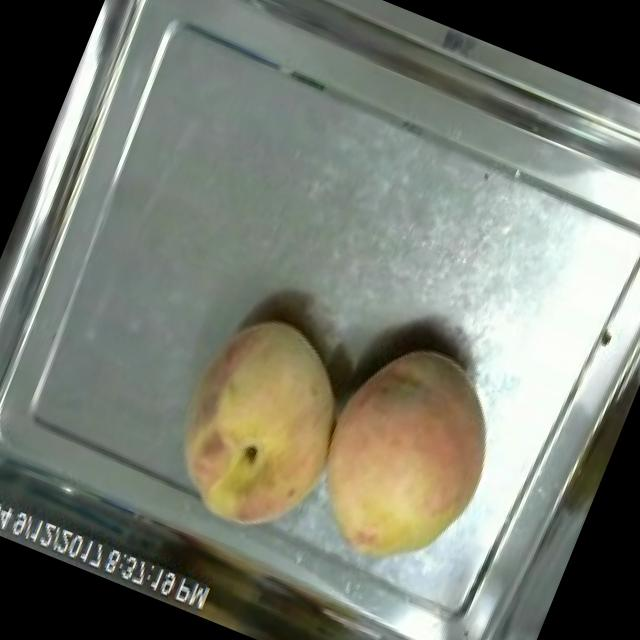Fruit: (278, 315, 534, 603), (138, 290, 381, 562)
